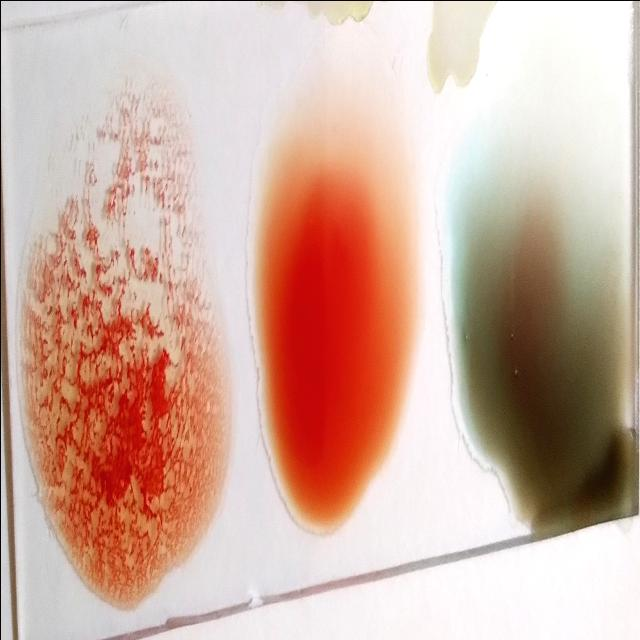D: (21, 98, 218, 604)
